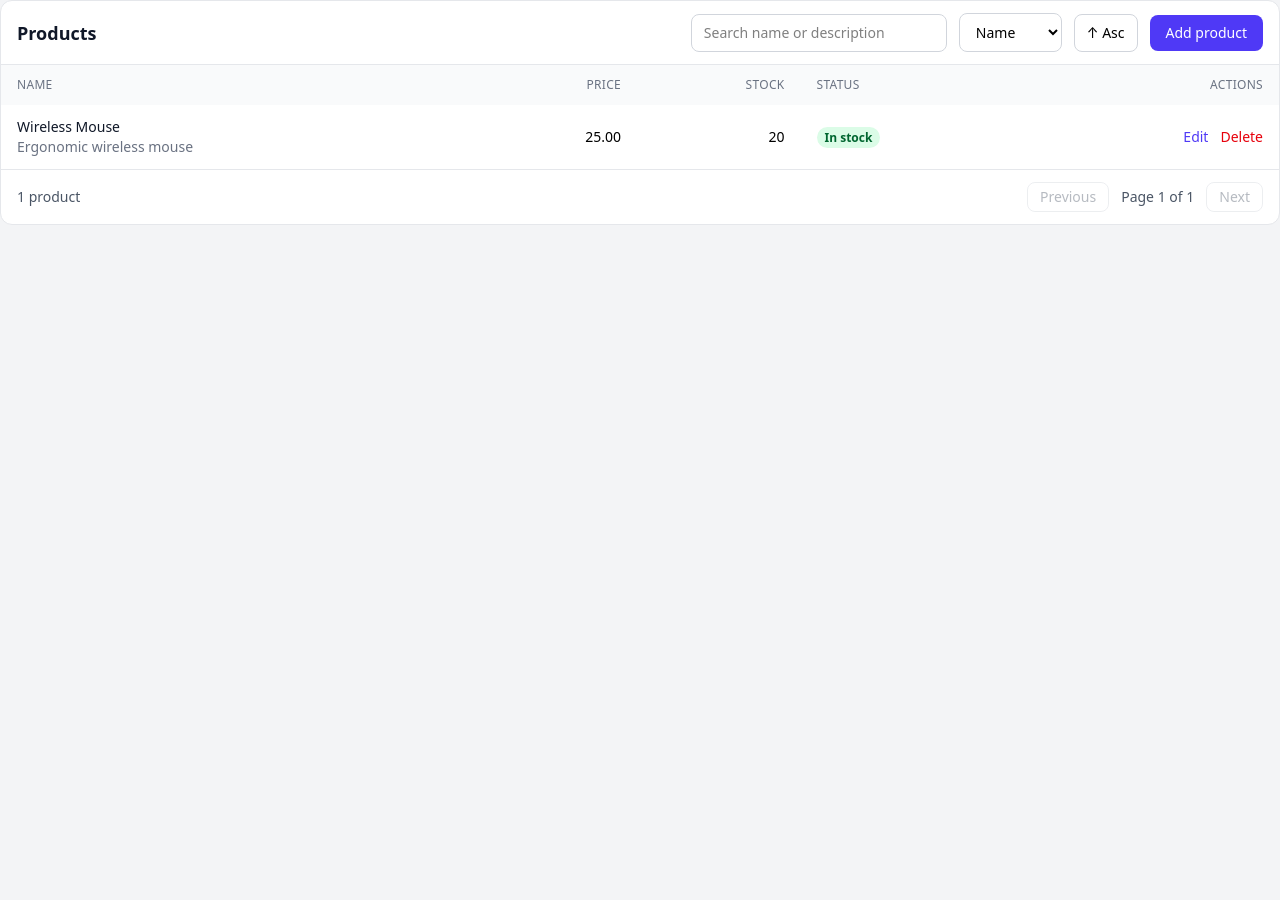
Scenario: ProductTable › sends the loaded version when editing and recovers from a conflict by loading the latest values
This screenshot has width=1280, height=900.
Expected: the text "Wireless Mouse" is shown, [17,117,120,136]
Click the button with aria-label "Edit Wireless Mouse".
click(1196, 137)  # box [1183,127,1208,147]
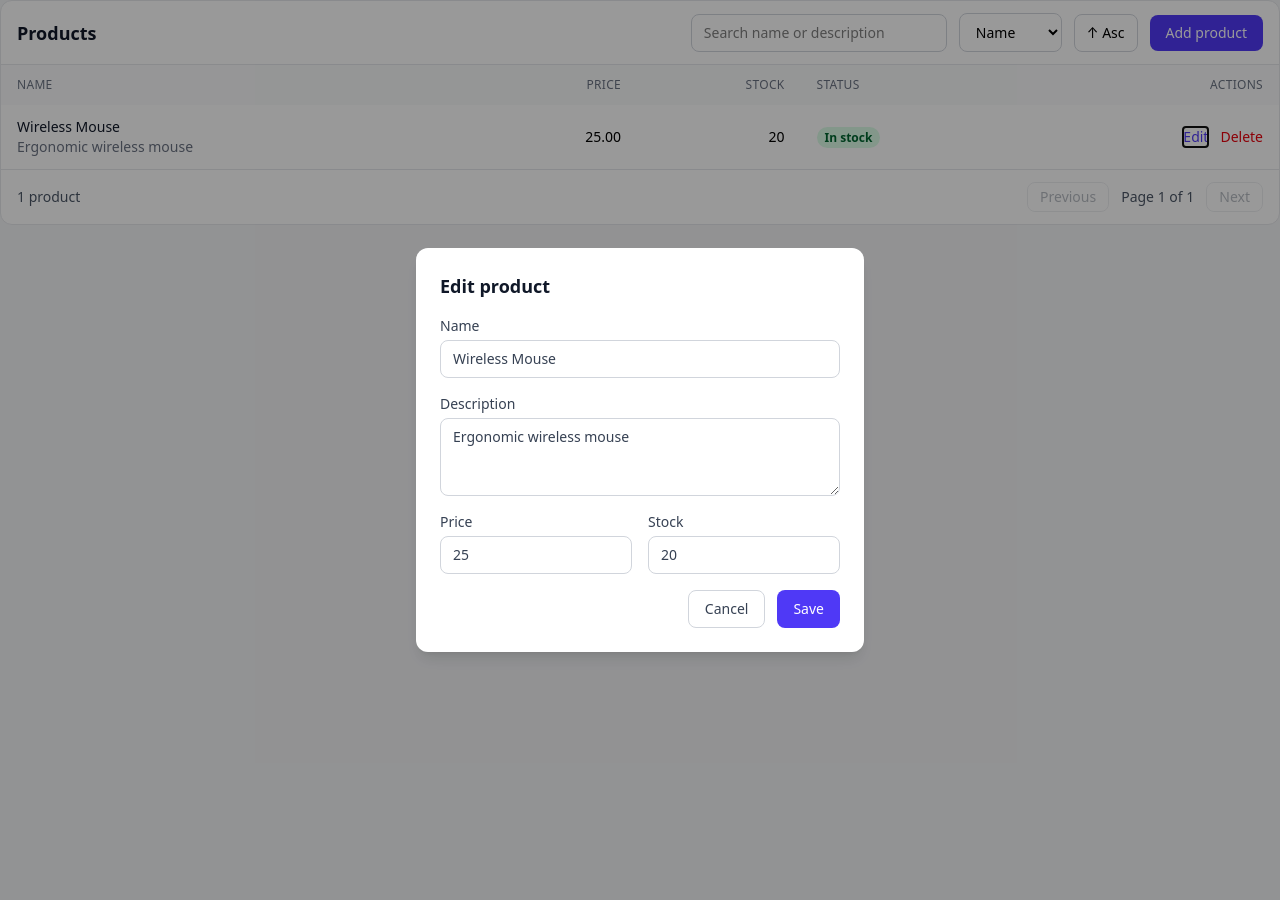
Replace the text in the number field labelled "Stock" with "15" at (744, 555), box [648,536,840,574]
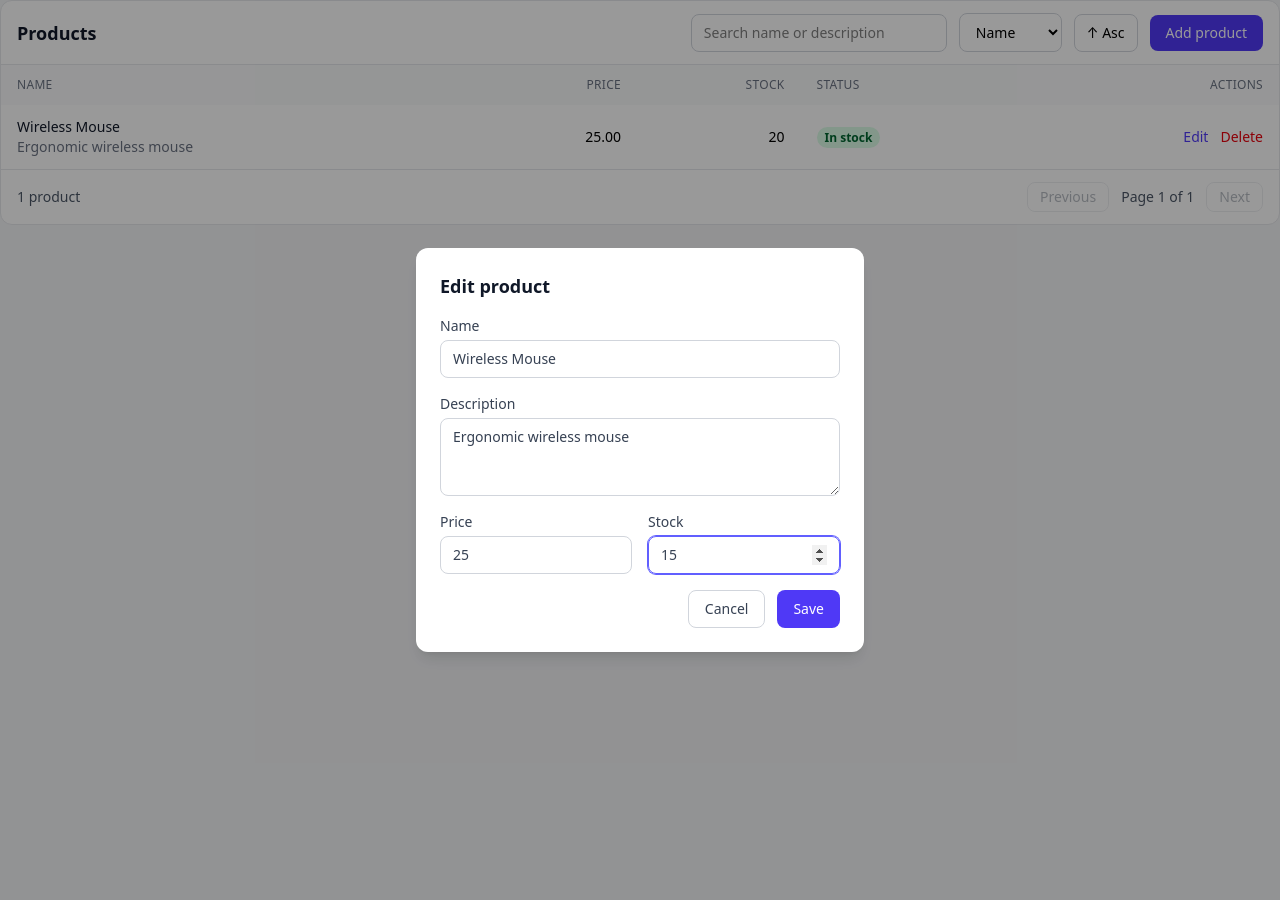
Click the button "Save".
click(809, 609)  # box [777,590,840,628]
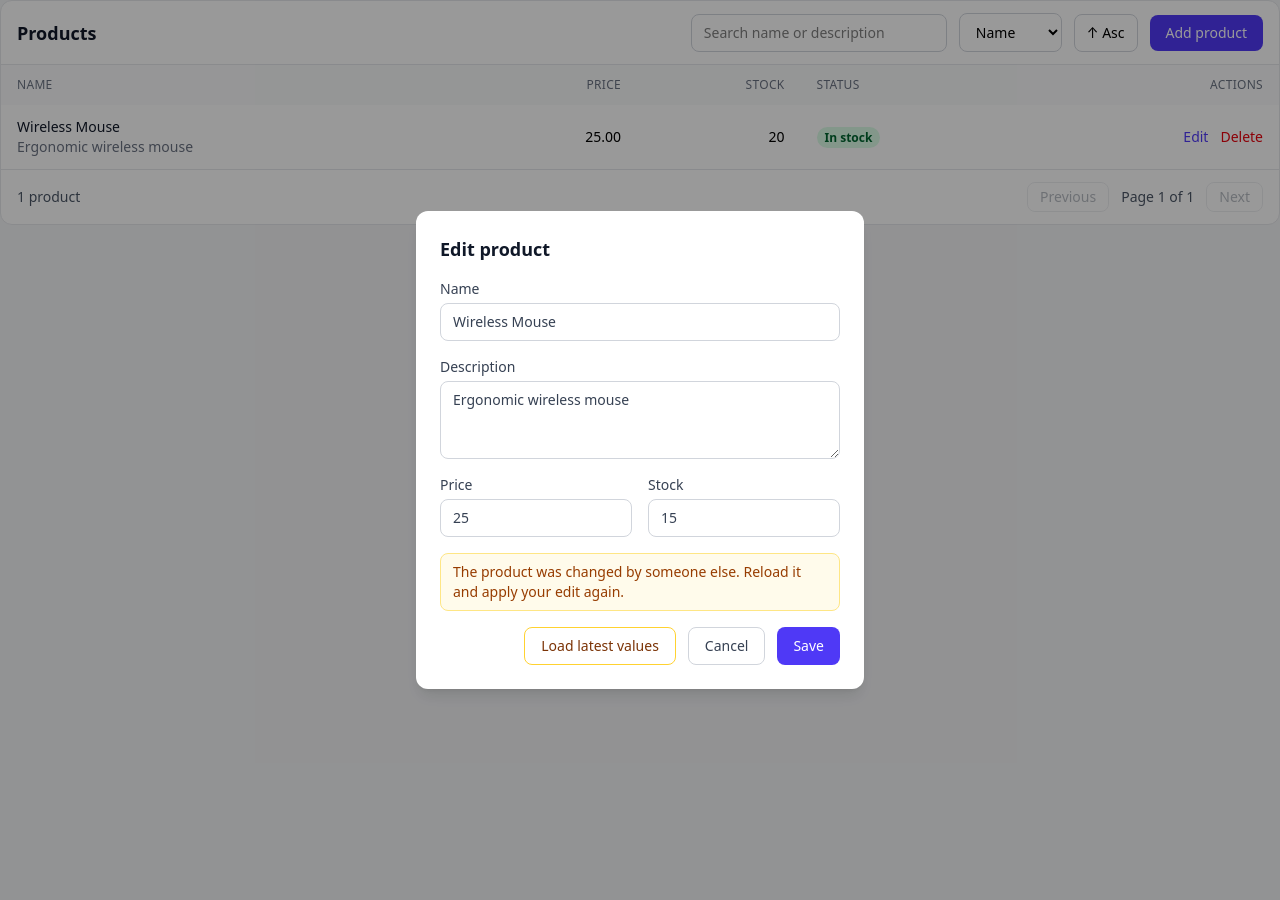
Expected: the text "The product was changed by someone else. Reload it and apply your edit again." is shown, [440,553,840,611]
Click the button "Load latest values".
click(600, 646)  # box [524,627,676,665]
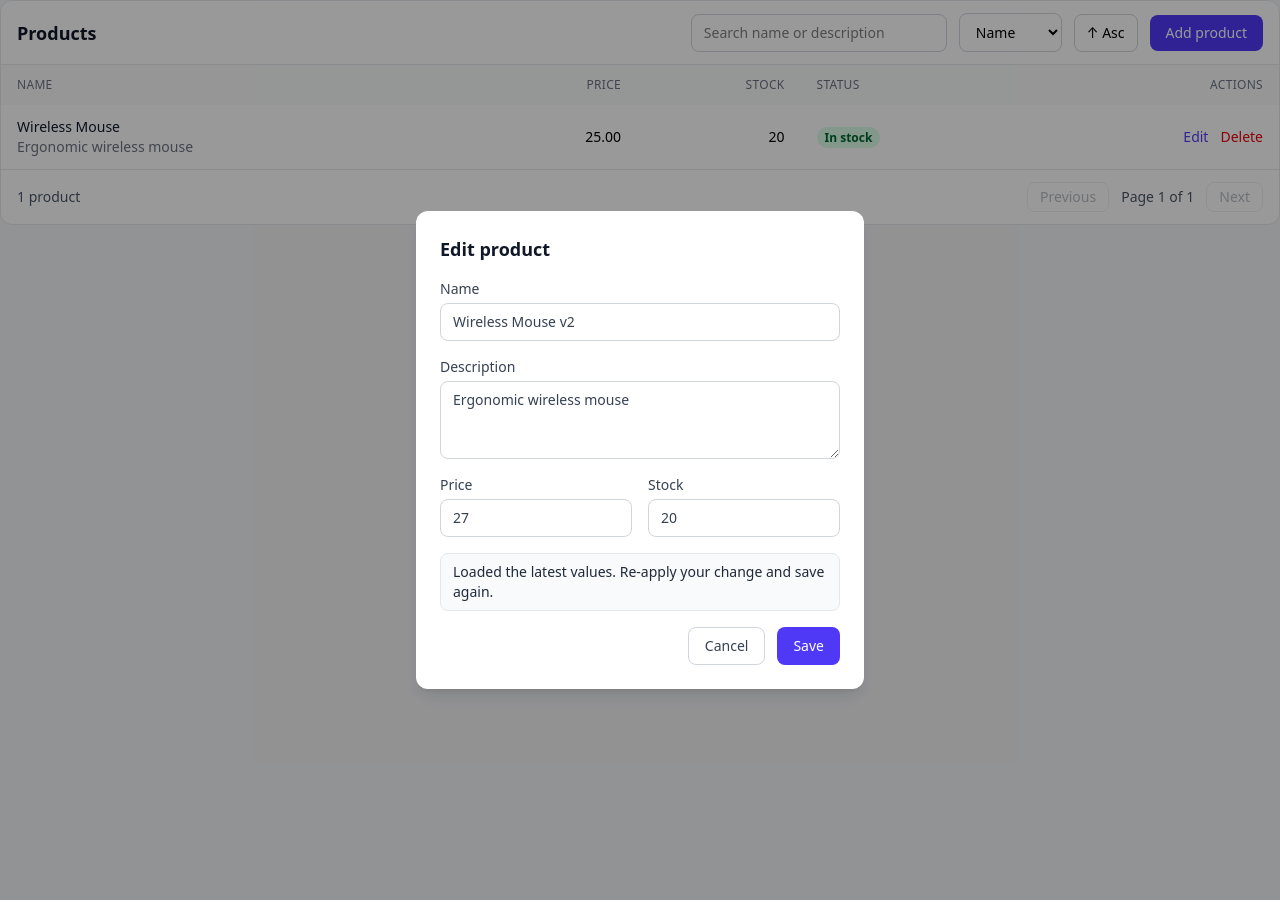
Expected: the field labelled "Name" holds "Wireless Mouse v2", [440,303,840,341]
Click the button "Save".
click(809, 646)  # box [777,627,840,665]
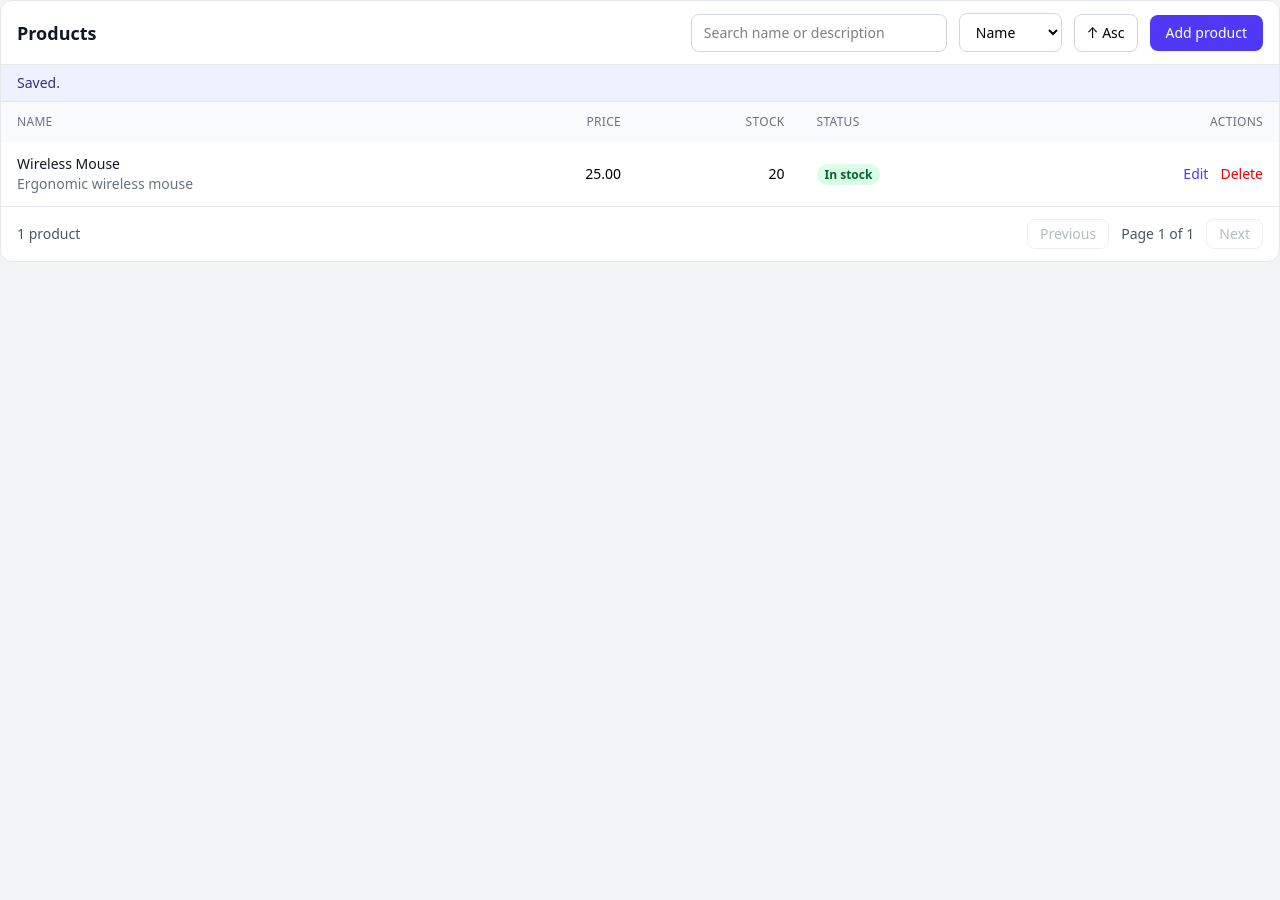
Expected: the dialog is gone
